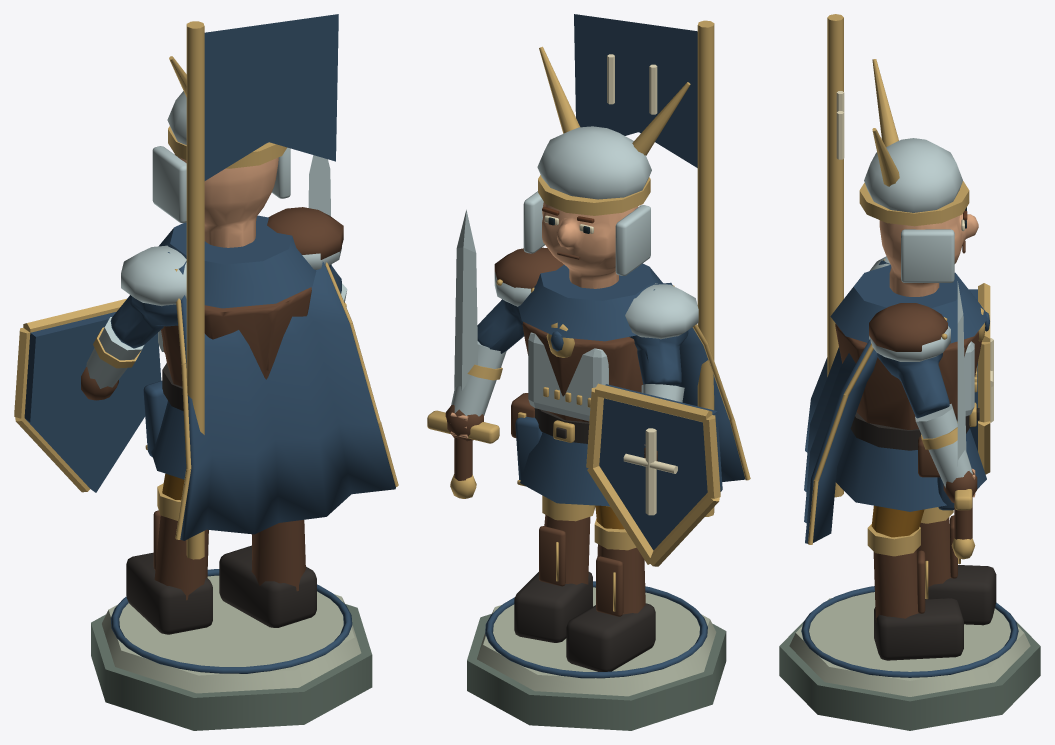
The model's file is advanced_bannerwarden.glb.
3 renders of one model, left to right at view 1: azimuth 30°, elevation 25°; view 2: azimuth 150°, elevation 25°; view 3: azimuth 270°, elevation 25°, orthographic. The views are drawn at different scales.
Visible parts, largest first — view 1: Rank inlay.001, Boot cuff.002, Beveled limestone top.001, Boot shaft.002, Octagonal footing.001, Forged helmet dome.001, Leather boot toe.002, Unified face and neck.001; view 2: Rank inlay.001, Boot cuff.002, Forged helmet dome.001, Boot shaft.002, Octagonal footing.001, Beveled limestone top.001, Leather boot toe.002, Unified face and neck.001, Eye white.002; view 3: Rank inlay.001, Boot cuff.002, Boot shaft.002, Forged helmet dome.001, Beveled limestone top.001, Octagonal footing.001, Leather boot toe.002, Unified face and neck.001, Trouser leg.002, Eye white.002.
Part boxes in pixels (bbox=[...]): Rank inlay.001: bbox=[24, 14, 395, 673]; Boot cuff.002: bbox=[14, 21, 398, 559]; Beveled limestone top.001: bbox=[102, 575, 361, 693]; Boot shaft.002: bbox=[81, 207, 343, 600]; Octagonal footing.001: bbox=[91, 604, 372, 730]; Forged helmet dome.001: bbox=[86, 91, 347, 388]; Leather boot toe.002: bbox=[126, 363, 316, 634]; Unified face and neck.001: bbox=[174, 154, 278, 247]; Rank inlay.001: bbox=[477, 14, 745, 678]; Boot cuff.002: bbox=[427, 20, 750, 611]; Forged helmet dome.001: bbox=[451, 126, 698, 421]; Boot shaft.002: bbox=[445, 247, 657, 616]; Octagonal footing.001: bbox=[467, 614, 726, 730]; Beveled limestone top.001: bbox=[477, 587, 716, 696]; Leather boot toe.002: bbox=[514, 408, 655, 671]; Unified face and neck.001: bbox=[450, 202, 645, 445]; Eye white.002: bbox=[544, 54, 677, 515]; Rank inlay.001: bbox=[801, 260, 1018, 677]; Boot cuff.002: bbox=[808, 14, 990, 599]; Boot shaft.002: bbox=[835, 241, 981, 622]; Forged helmet dome.001: bbox=[864, 138, 974, 487]; Beveled limestone top.001: bbox=[789, 592, 1030, 696]; Octagonal footing.001: bbox=[779, 621, 1040, 730]; Leather boot toe.002: bbox=[850, 408, 996, 660]; Unified face and neck.001: bbox=[879, 213, 978, 497]; Trouser leg.002: bbox=[871, 505, 924, 537]; Eye white.002: bbox=[836, 91, 993, 422].
Size of the model in its own units: 1.14 by 2.32 by 0.88.
